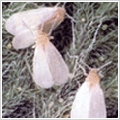whitefly: (22, 13, 72, 89), (5, 1, 77, 51), (70, 56, 112, 119)
